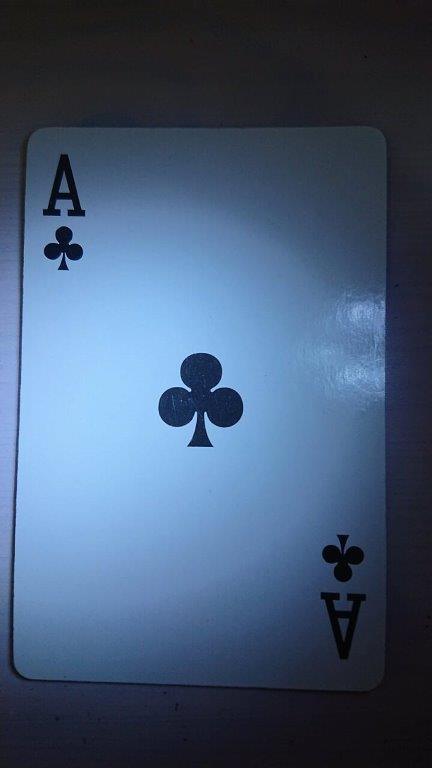AC: (8, 123, 390, 693)
